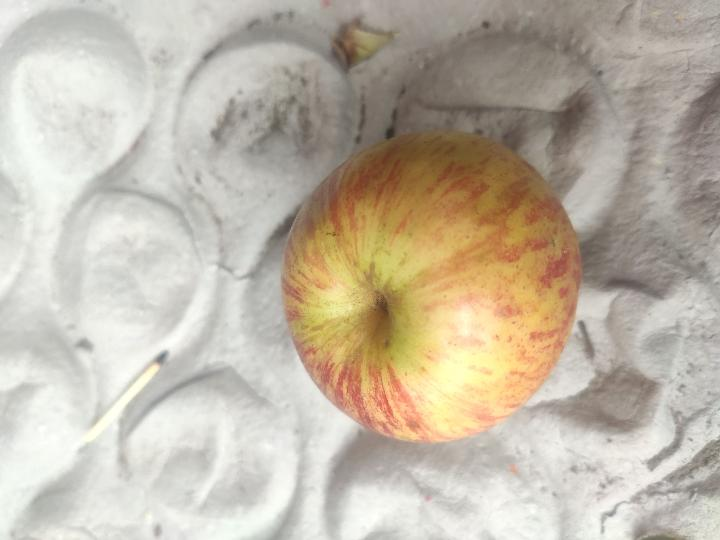apple: (282, 131, 581, 442)
